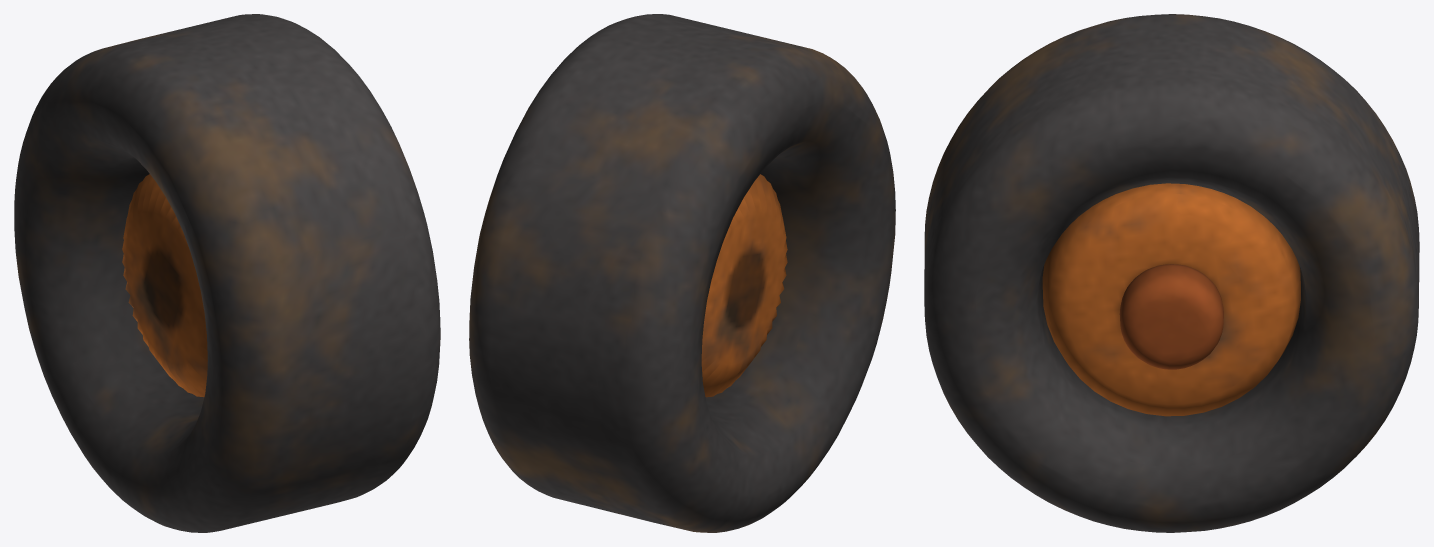
3 views of the same model, side by side, from view 1: azimuth 30°, elevation 25°; view 2: azimuth 150°, elevation 25°; view 3: azimuth 270°, elevation 25° (orthographic).
Visible parts, largest first — view 1: wheel_RL; view 2: wheel_RL; view 3: wheel_RL.
Boxes of the visible parts, x1,y1,x2,y2 form: wheel_RL: (14, 14, 440, 532); wheel_RL: (469, 14, 895, 532); wheel_RL: (924, 14, 1419, 532).
Size of the model in its own units: 0.1864 by 0.3593 by 0.3591.
Materials: 1 (1 with a texture image).
